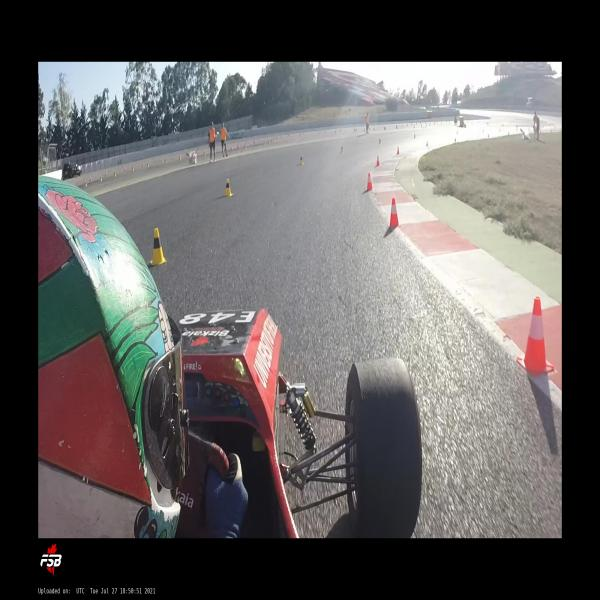orange_cone: (517, 296, 555, 376), (387, 198, 401, 228), (366, 173, 373, 191), (376, 156, 380, 166), (396, 146, 400, 154), (104, 171, 107, 178), (124, 165, 126, 173), (89, 175, 91, 182), (426, 140, 428, 146)
yellow_cone: (150, 227, 166, 265), (224, 179, 232, 196), (299, 155, 304, 165), (340, 145, 344, 153), (84, 179, 88, 187), (99, 174, 103, 182), (378, 137, 381, 145), (114, 170, 116, 178), (147, 162, 149, 169), (132, 166, 134, 172), (179, 156, 181, 162)
